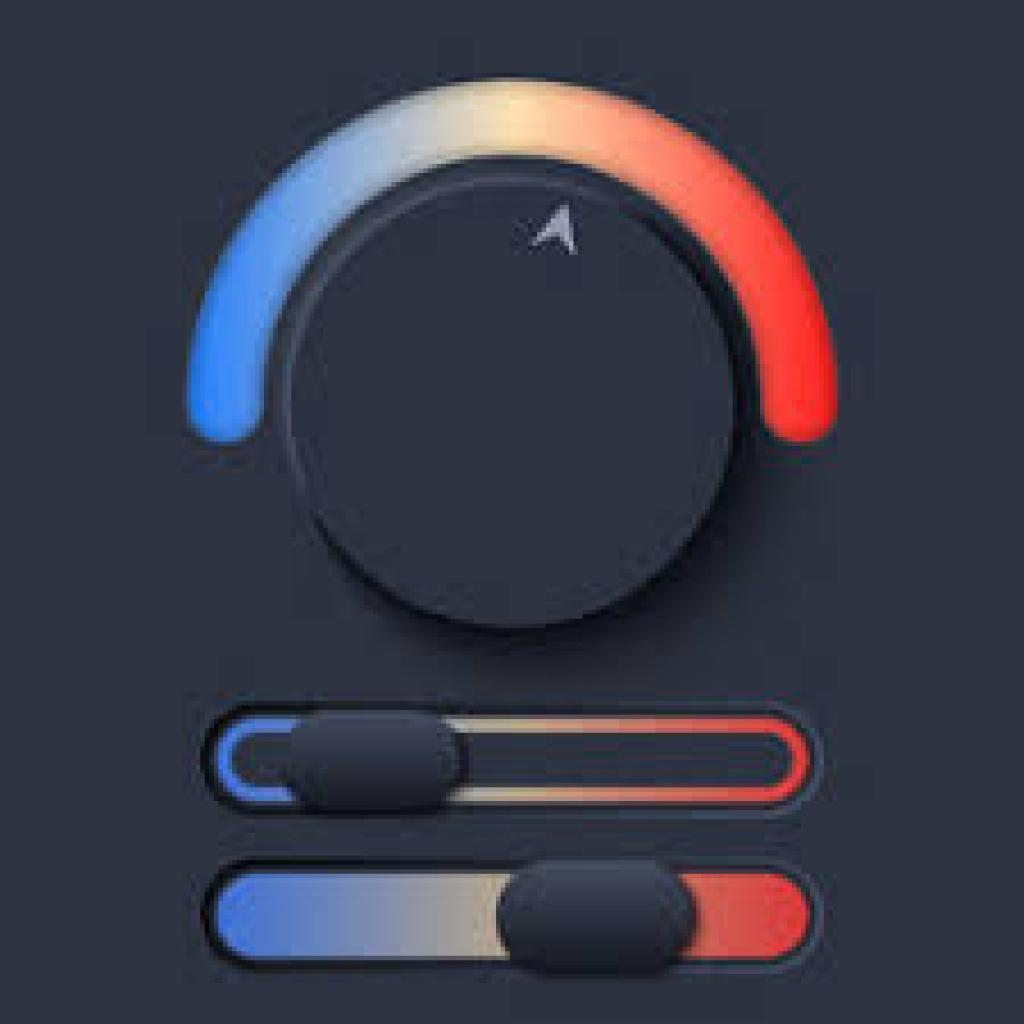slider: (197, 851, 826, 978), (199, 703, 826, 823)
